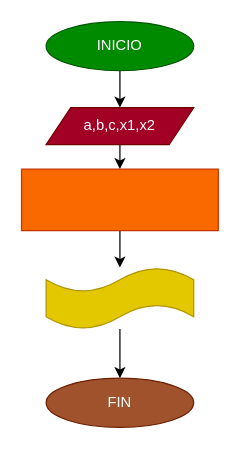
The diagram is 240 pixels wide and 449 high, and some of its shapes have lost their labels. Each missing label, with the box of its shape:
(-b±√(b²-4ac))/(2a): (20, 168, 218, 231)
x1,x2: (45, 266, 194, 329)
